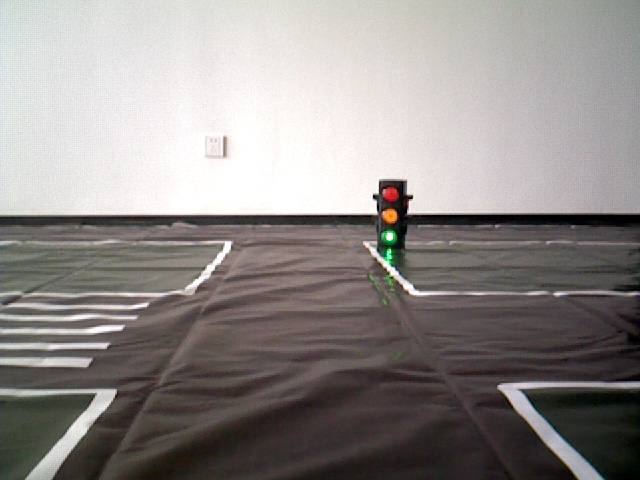green: (377, 181, 401, 248)
